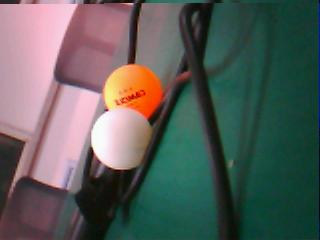oball: (104, 64, 162, 114)
